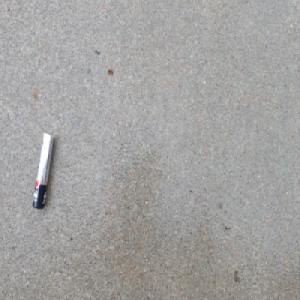Battery: (30, 131, 55, 214)
